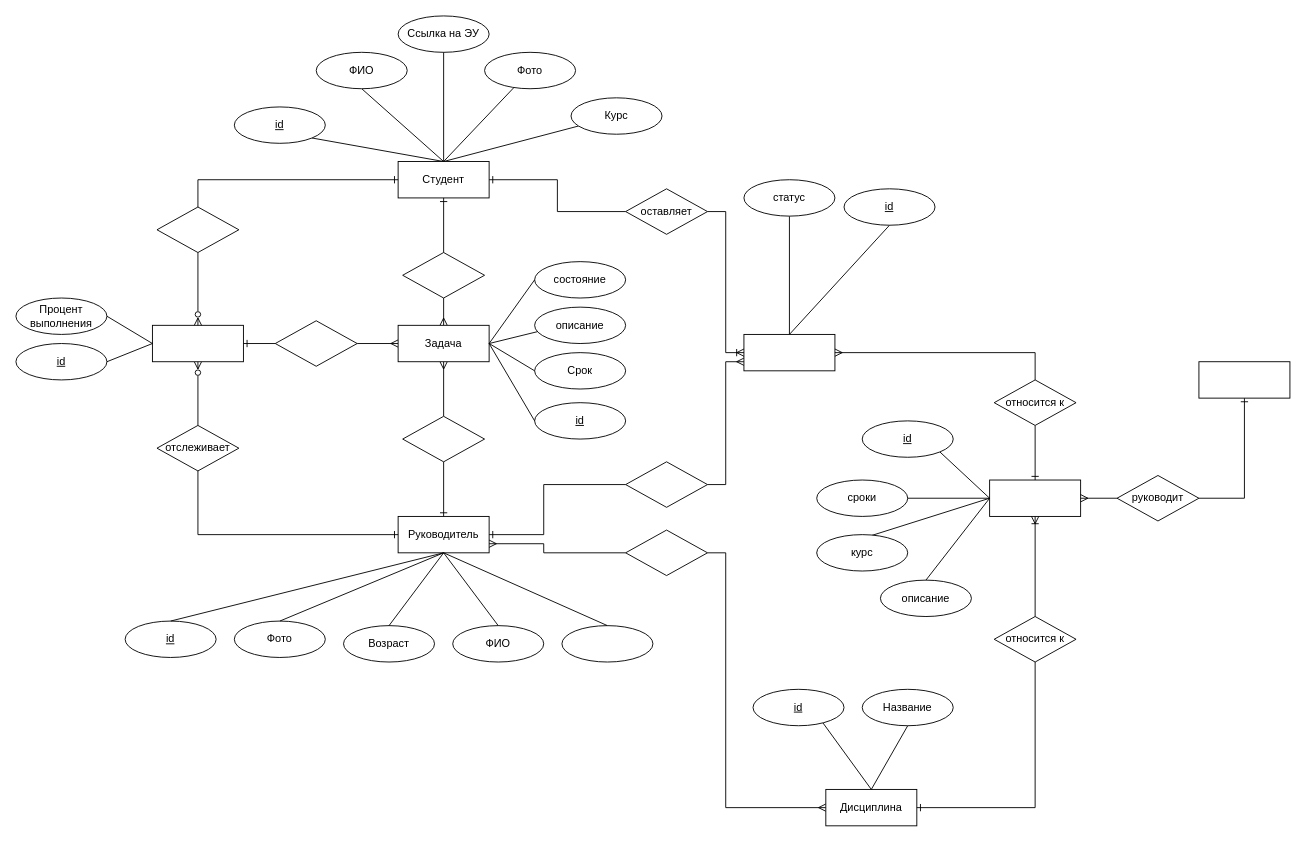
This 1306x842 diagram has some shape labels left out. The shapes that lost their labels are listed below. From the top down, each one's box as (x1, y1, x2, y2) in pixels, then its label:
(156, 206, 239, 253): просматривает
(402, 252, 485, 298): выполняет
(152, 324, 243, 362): План
(274, 320, 357, 366): содержит
(743, 334, 835, 371): Заявка
(1198, 361, 1290, 398): Старший руководитель
(402, 415, 485, 462): создает
(625, 461, 708, 507): рассматирвает
(989, 479, 1081, 516): Работа
(625, 529, 708, 576): знания
(561, 625, 653, 662): Резюме
